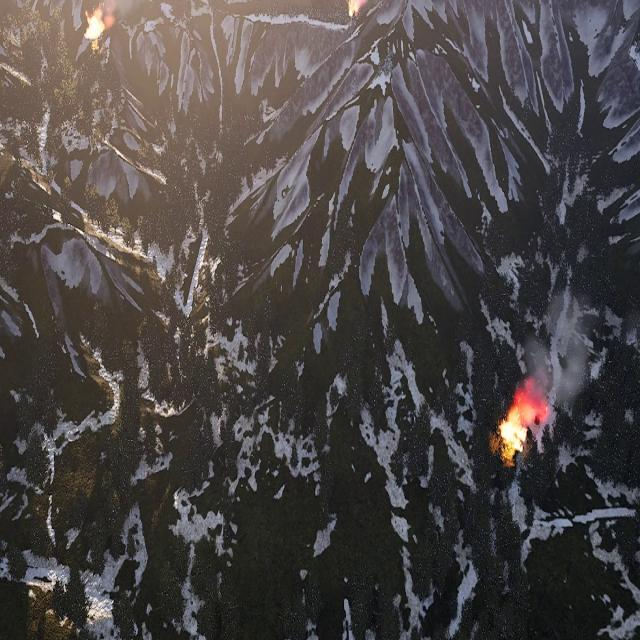fire: (498, 408, 526, 455), (86, 8, 108, 41), (348, 0, 364, 15)
smoke: (517, 293, 601, 430), (105, 0, 136, 25)
